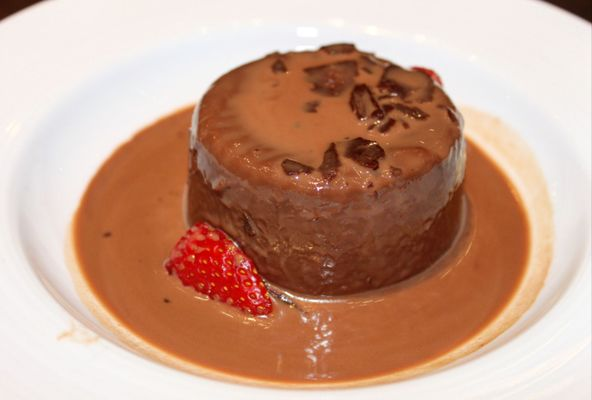sushi: (184, 45, 469, 302)
